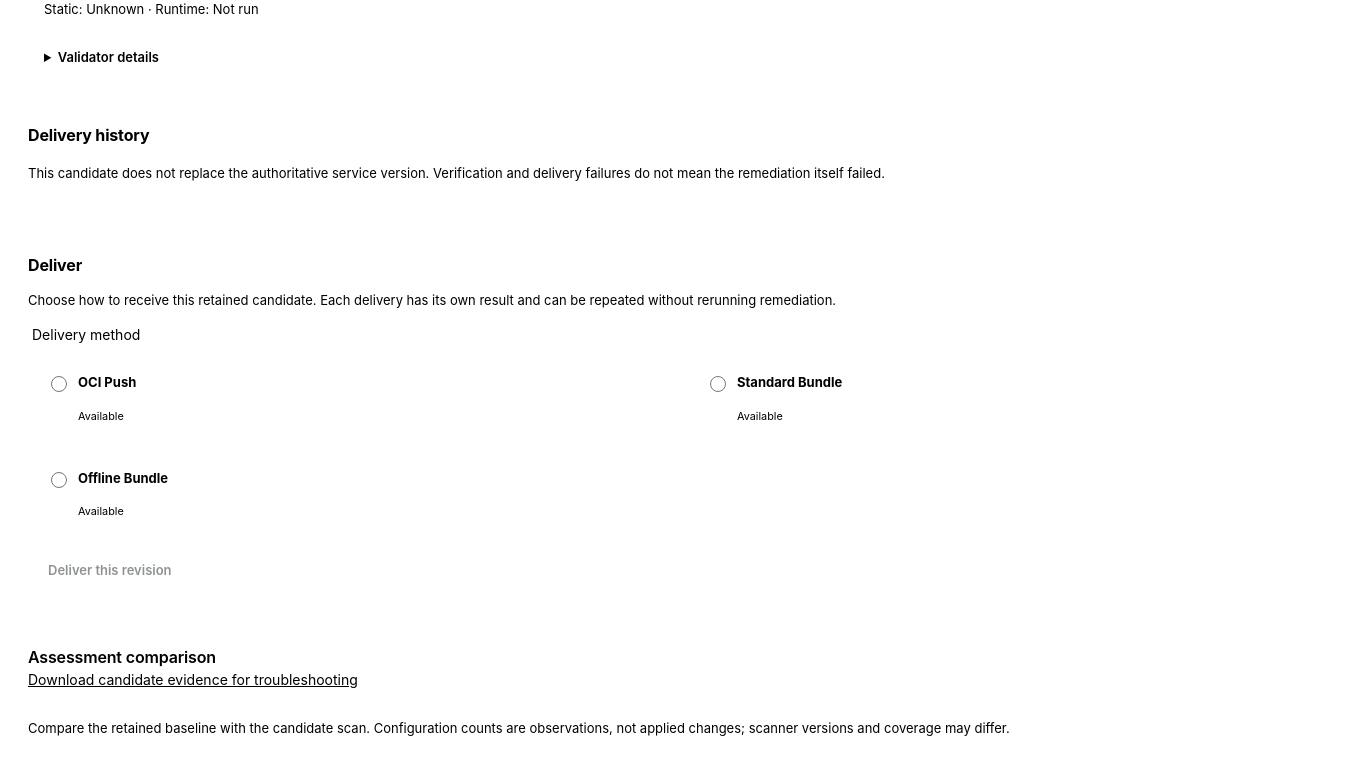
Test case: explains included documentation and configured signing for Standard Bundle
This screenshot has width=1366, height=768.
(page scrolled)
Click the radio button labelled "Standard Bundle Available". click: (718, 384)
box: [710, 376, 726, 392]
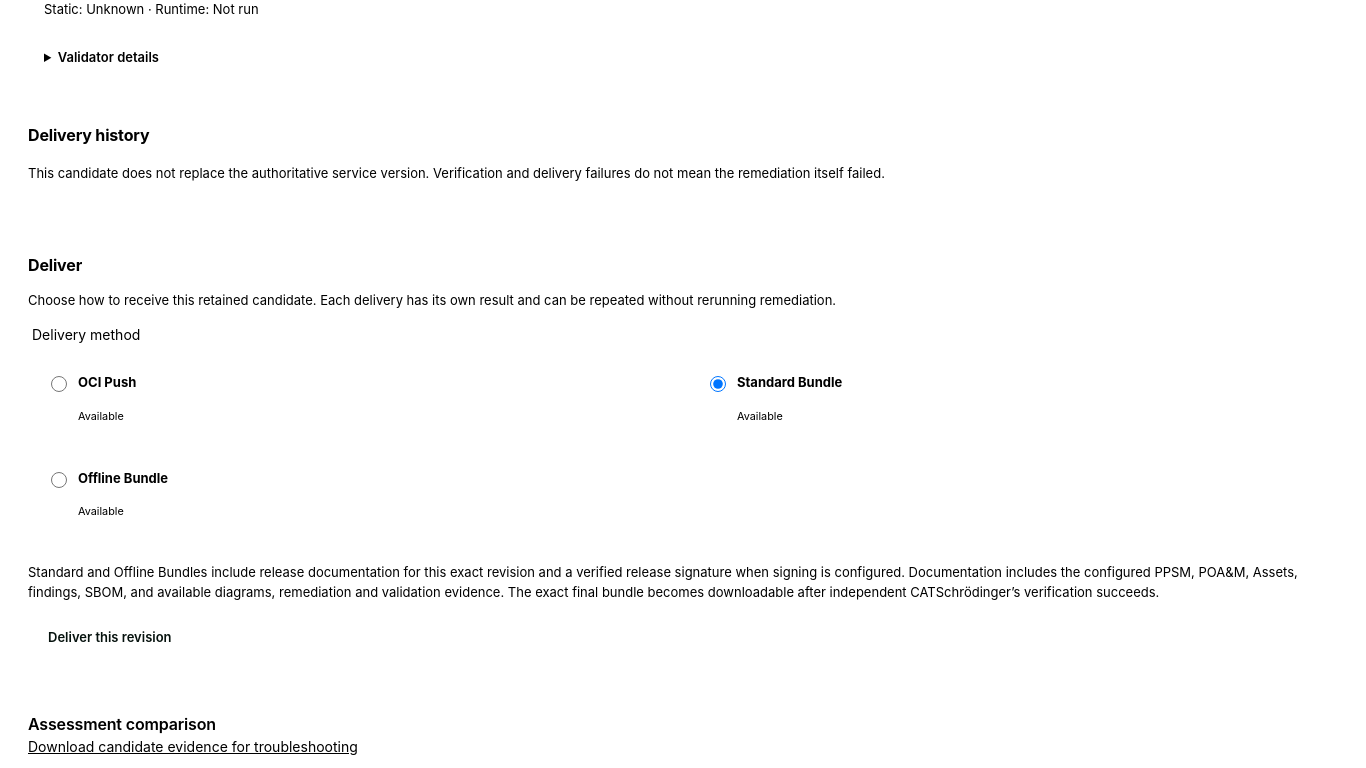
Expected: the text "Standard and Offline Bundles include" shows "verified release signature when signing is configured", [28, 564, 1298, 600]
Expected: the text "Standard and Offline Bundles include" shows "exact revision", [28, 564, 1298, 600]
